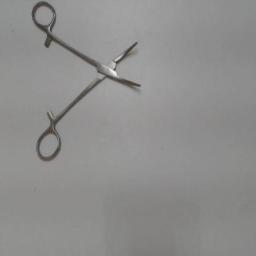Crile Artery Forceps: (28, 0, 146, 168)
